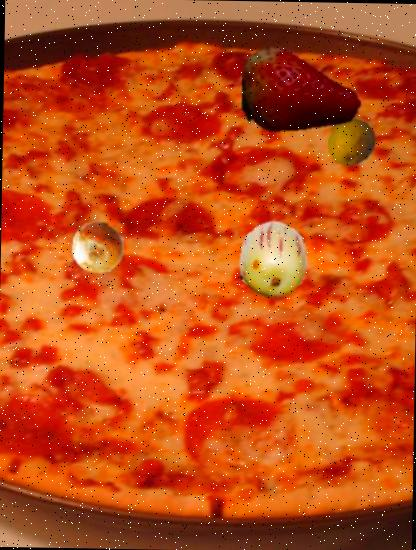Lemon: (325, 116, 377, 168)
Onion: (70, 220, 126, 276)
Pepino: (236, 222, 311, 298)
Strawberry: (240, 28, 362, 150)
